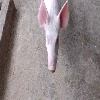heo: (36, 1, 71, 74)
